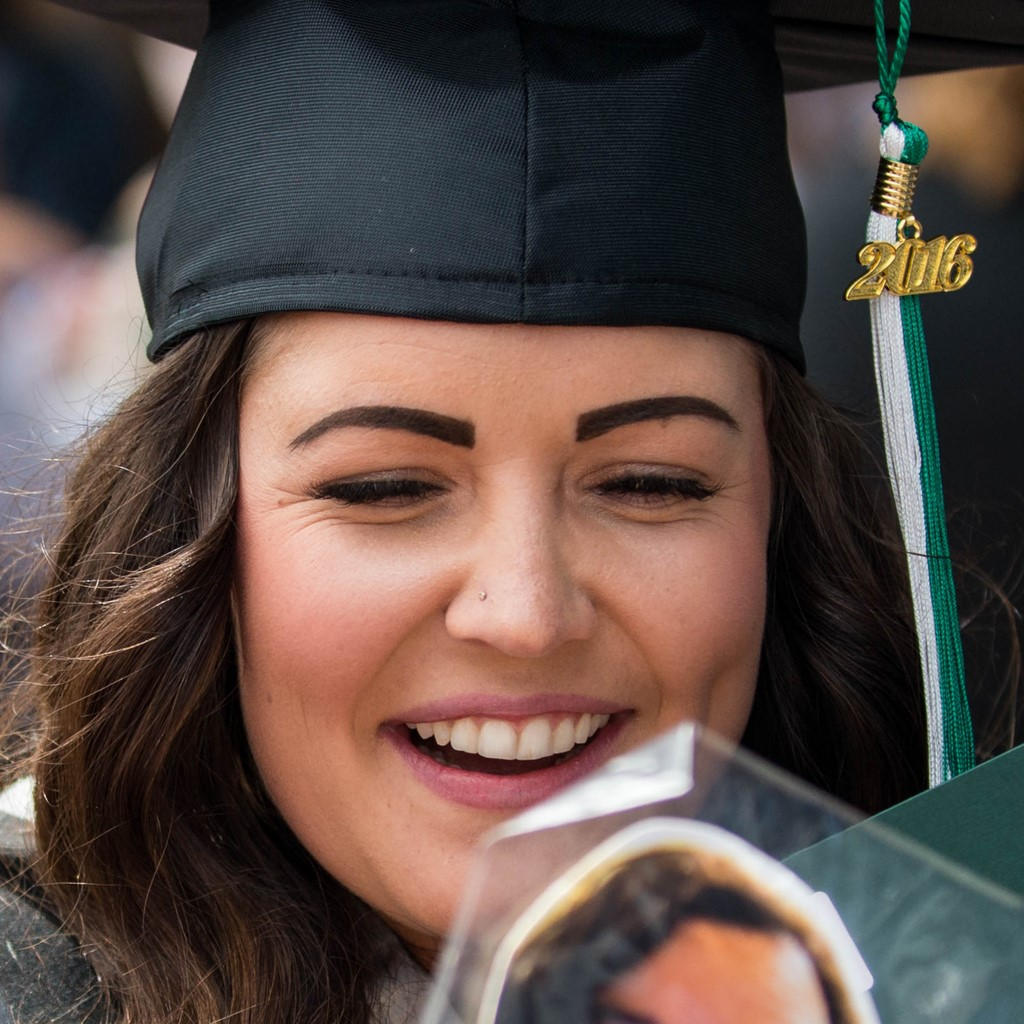sin_mascara: (163, 216, 756, 945)
